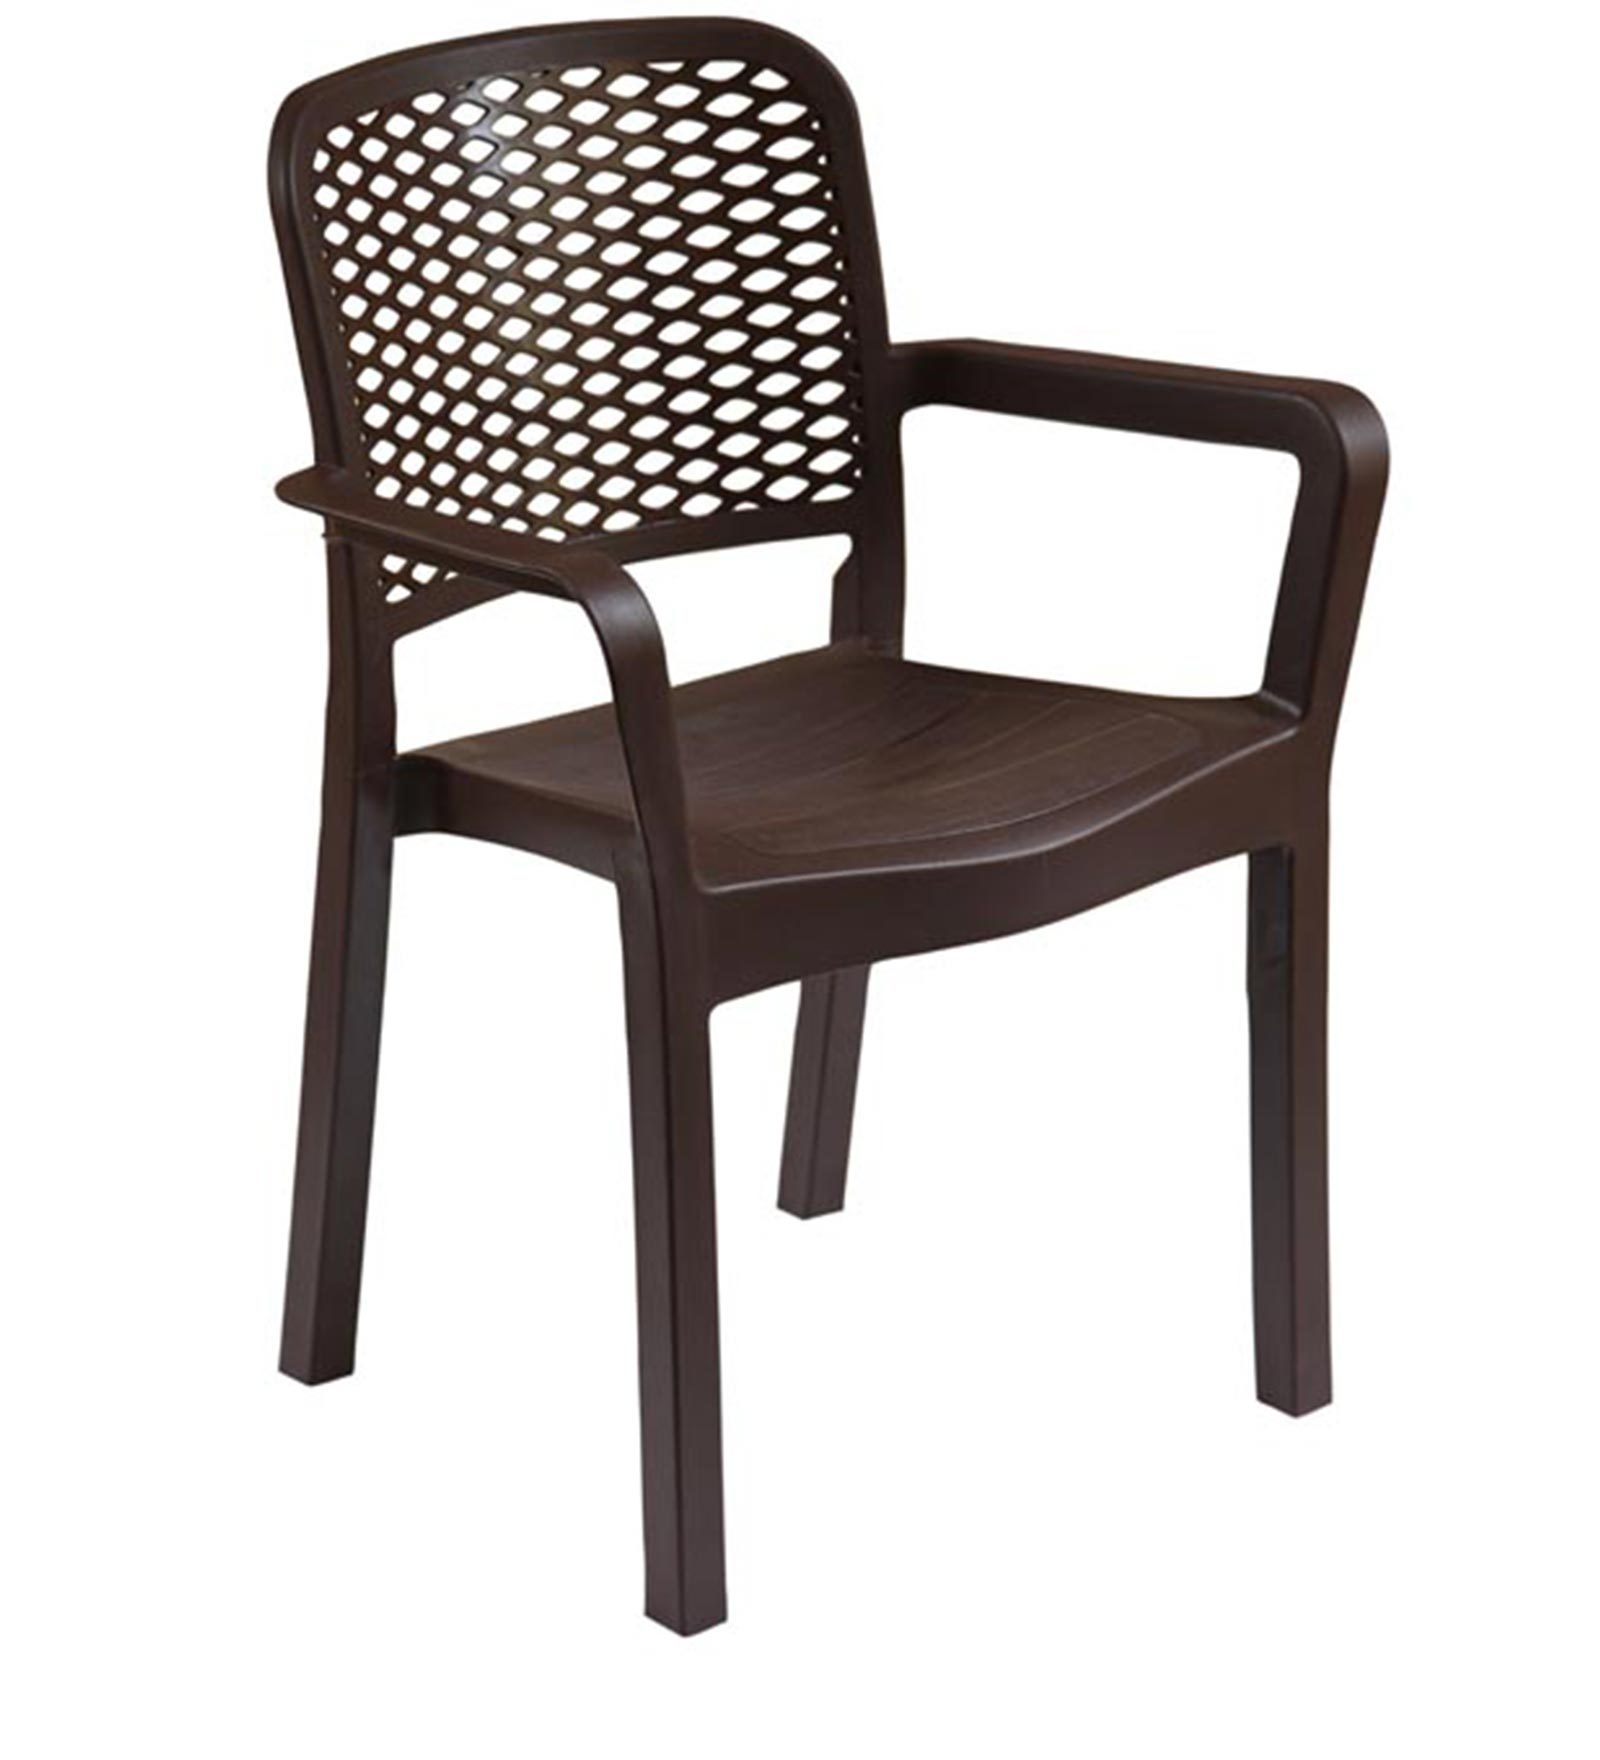Luxury Plastic Chair (Set of 2) in Brown Colour by Italica Furniture: (251, 8, 1393, 1648)
